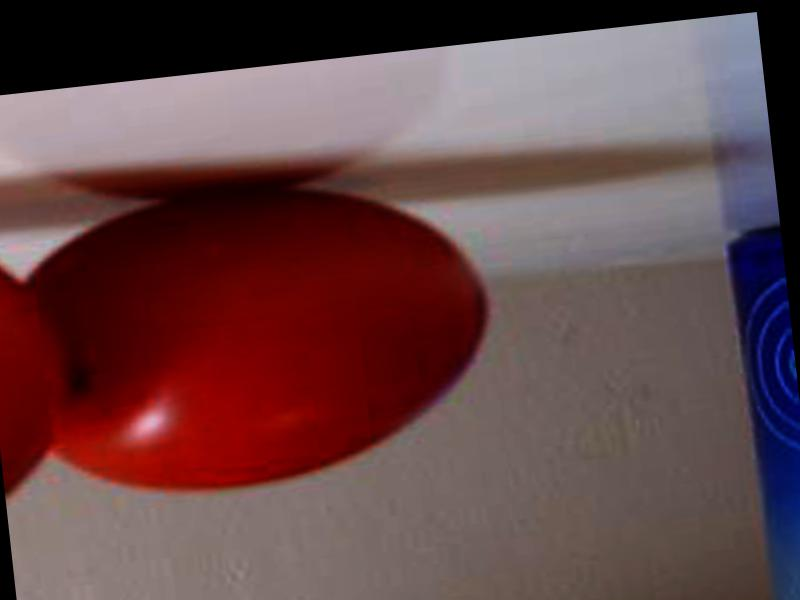Tomato: (24, 163, 500, 504)
